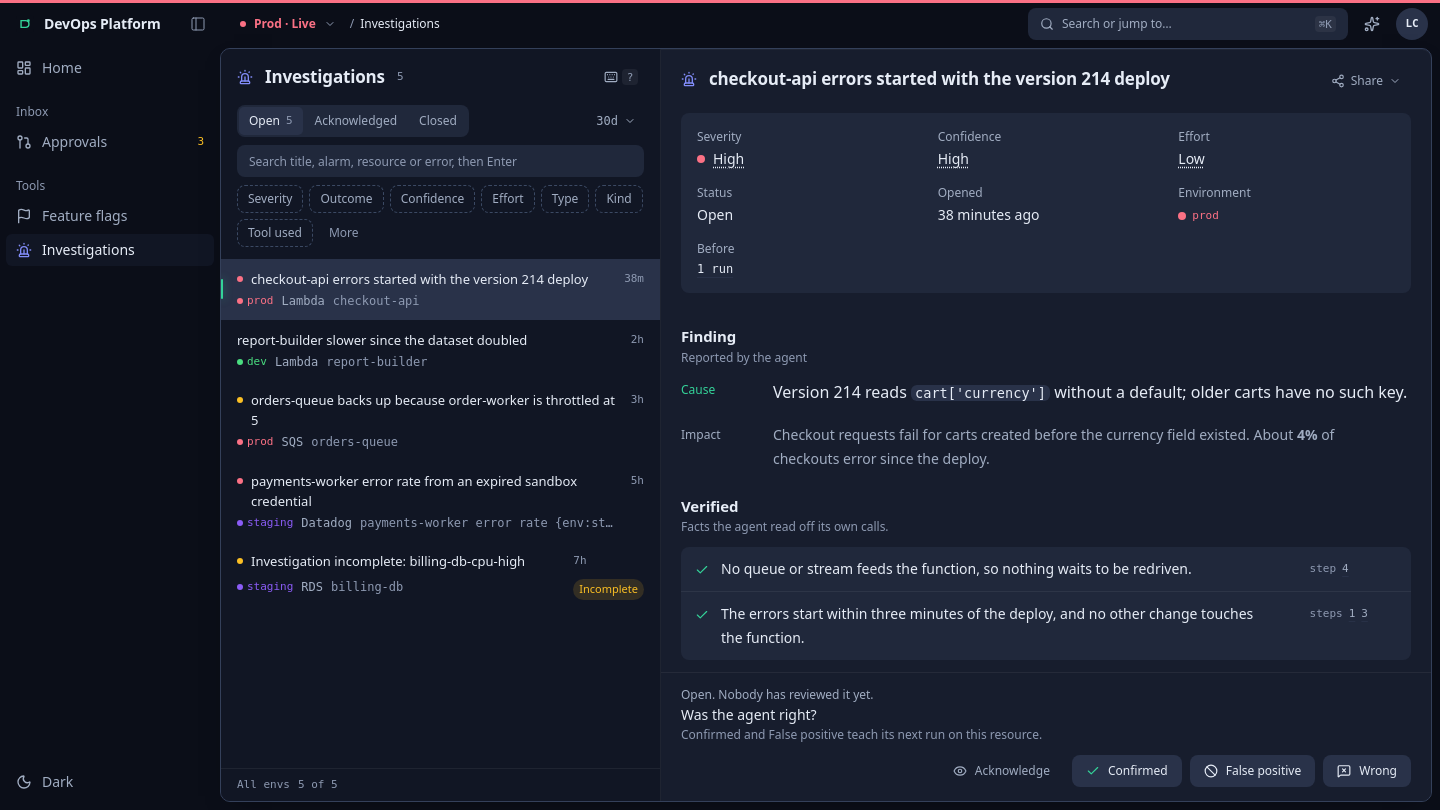
Test: one investigation › asks what was wrong before closing as wrong
Click the button "Wrong": point(1367, 771) [1323,755,1411,787]
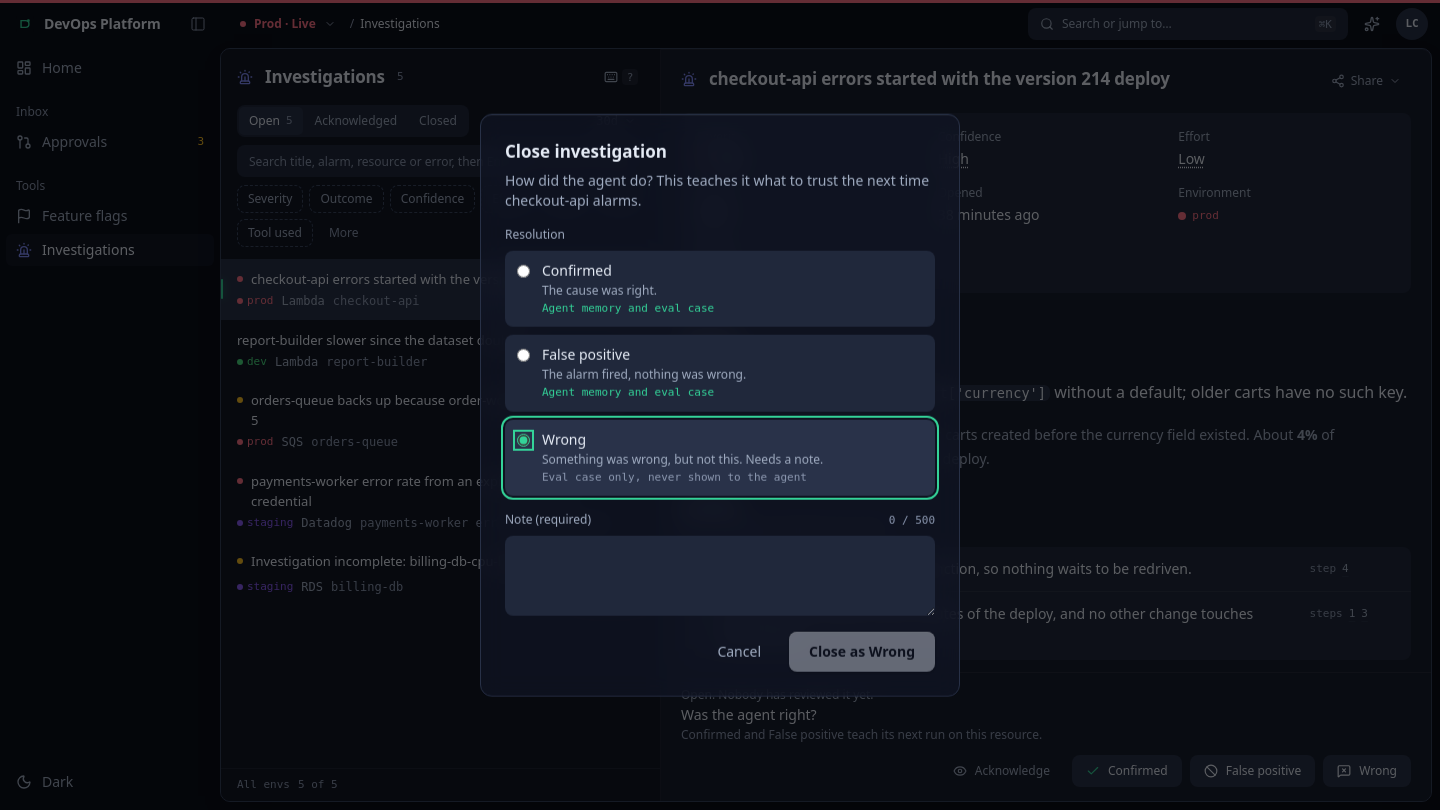
In the text box labelled "Note (required)": point(720, 575) [505,535,935,615], type "The cache, not the deploy."
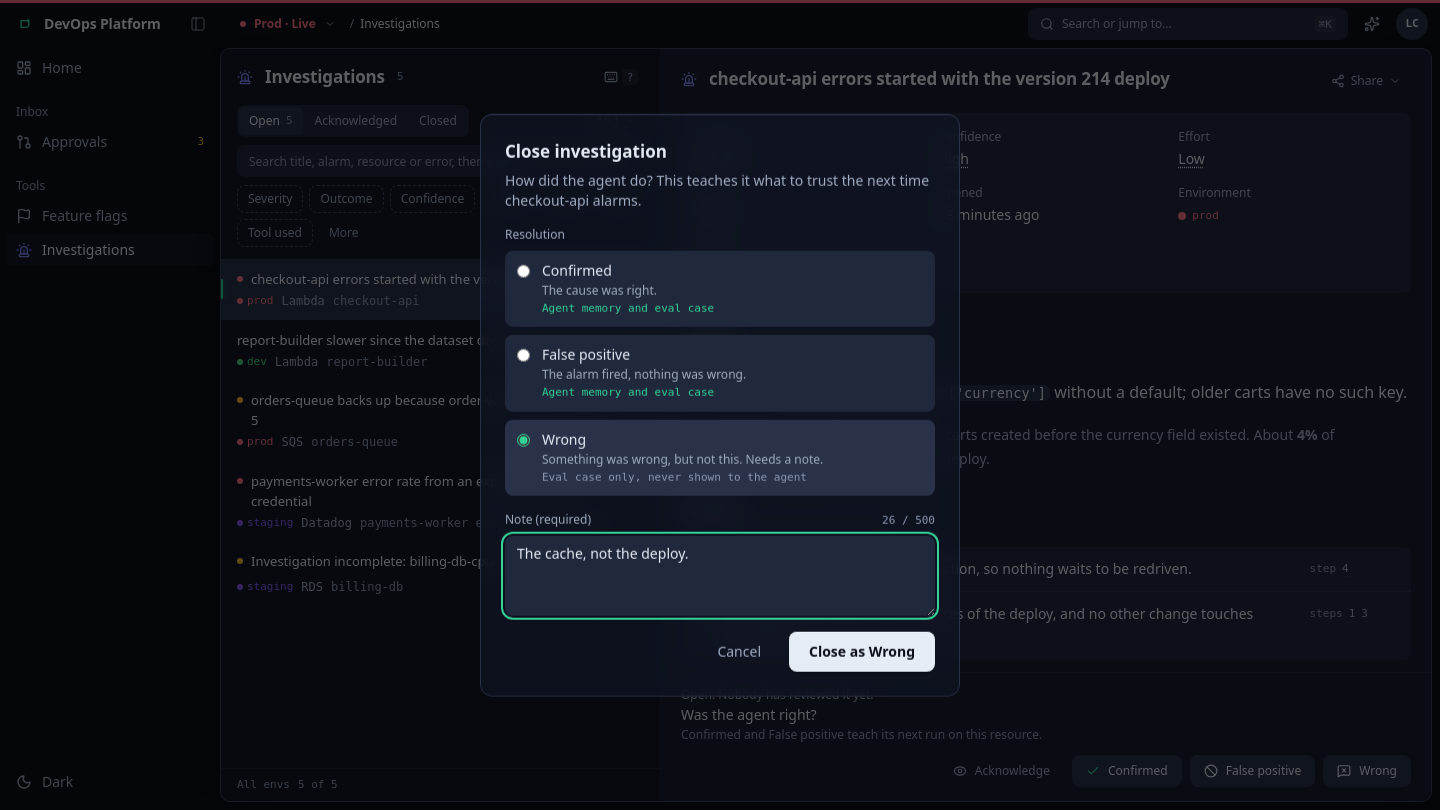
Click the button "Close as Wrong": point(862, 651) [789,631,935,671]
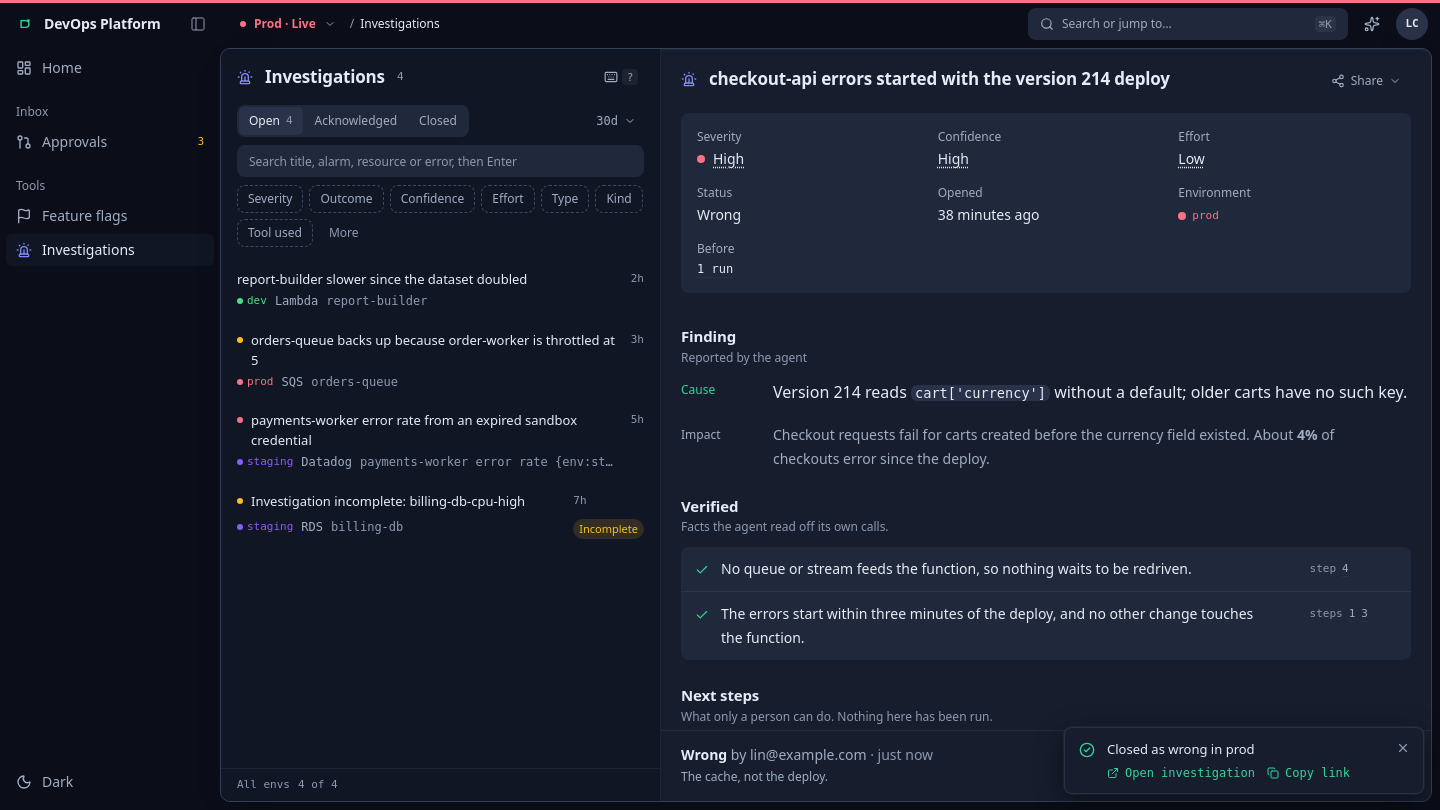
Expected: the element named "Decision" shows "Wrong by lin@example.com", [661,730,1431,801]
Expected: the element named "Decision" shows "The cache, not the deploy.", [681,768,828,785]
